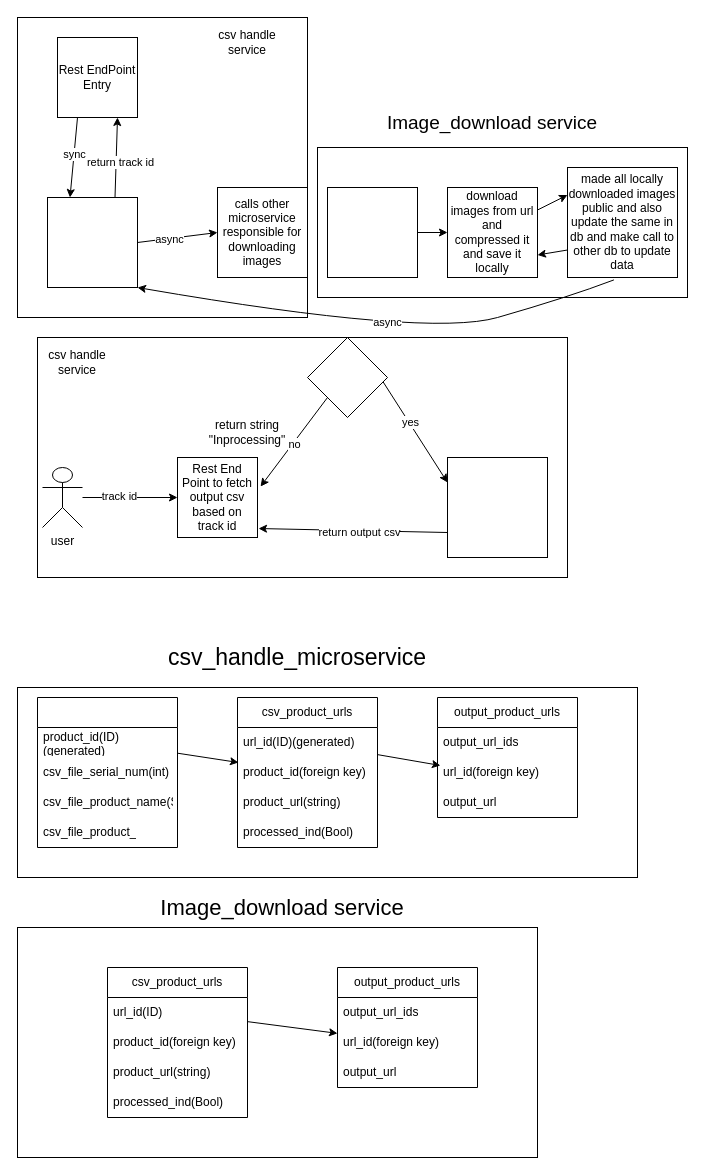
Some shapes in this 705 by 1175 pixel diagram are drawn without their labels. Each missing label, with the box of its shape:
Create csv from db incuding compressed images url in another column: (446, 456, 548, 558)
csv_product_table: (36, 696, 178, 848)
if records having trackid has all images processed: (306, 336, 388, 418)
make rest call to csv service to fetch csv_product_urls: (326, 186, 418, 278)
parse csv file and store in db and return uniquely generated key as tracking id: (46, 196, 138, 288)
